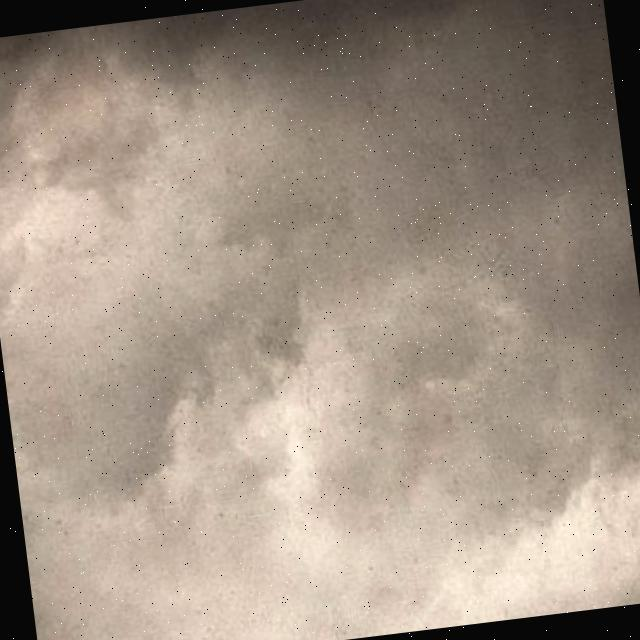As: (1, 1, 640, 603)
